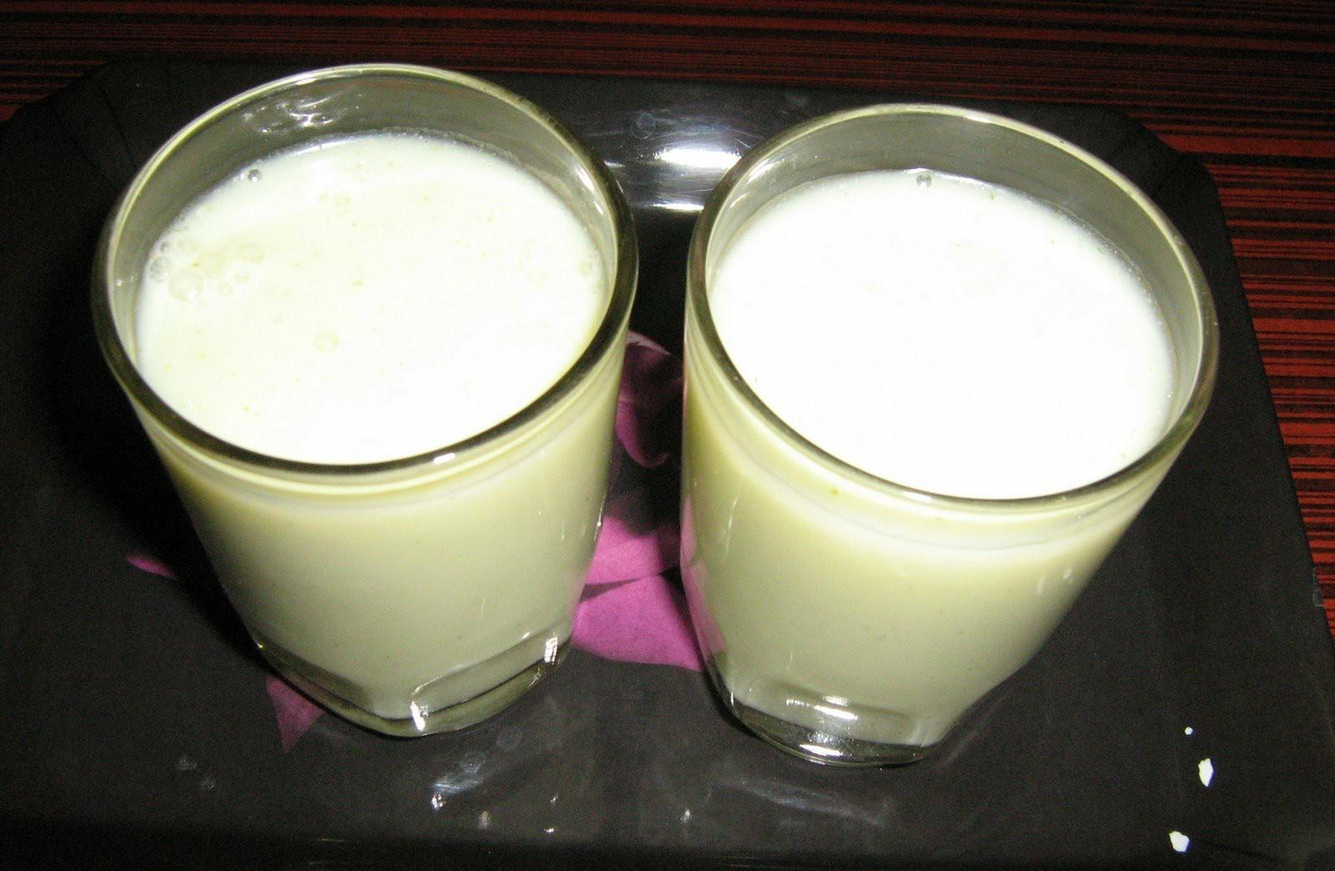Lassi: (681, 169, 1174, 742), (137, 135, 626, 691)
